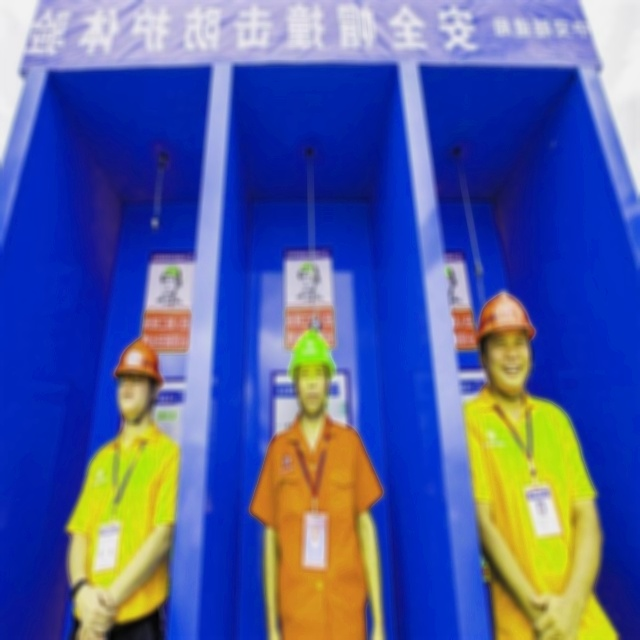Con_Casco: (480, 292, 532, 390), (116, 338, 161, 420), (291, 329, 332, 415)
Sin_Chaleco: (269, 419, 369, 640), (76, 430, 173, 630)
